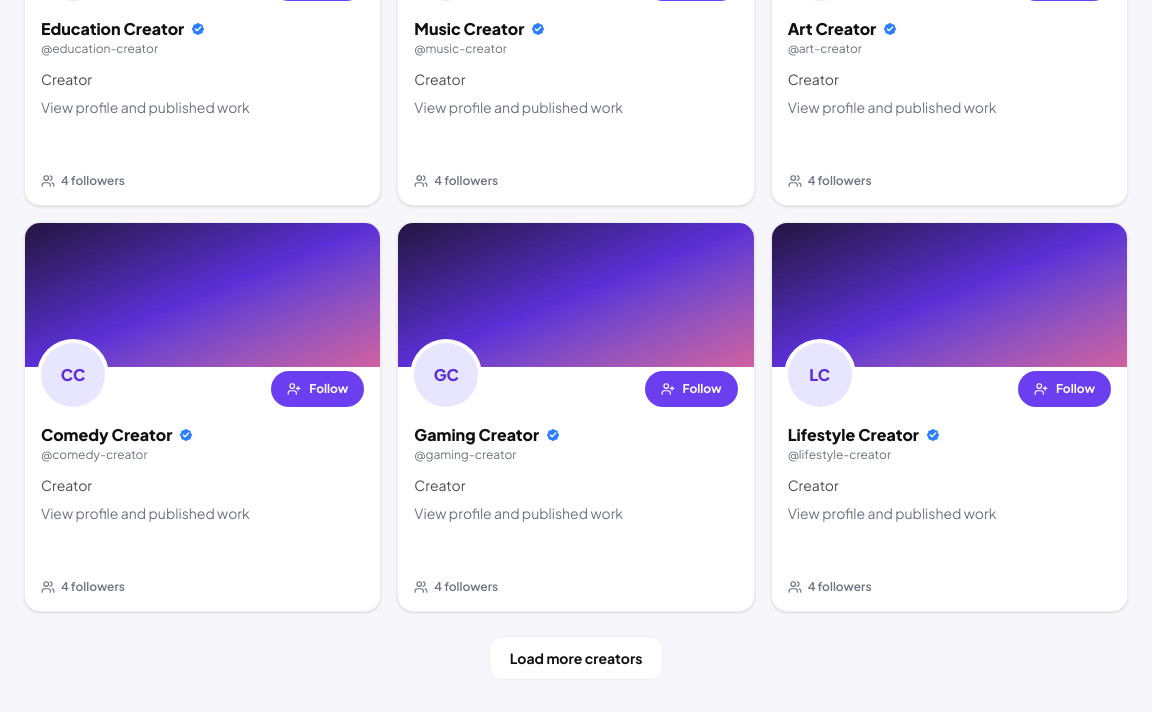
Scenario: Explore page › paginates the complete twelve-category creator directory
(page scrolled)
Expected: the text "Gaming Creator" is shown, [414, 424, 561, 445]
Step 1. Click the button "Load more creators" → (576, 658), box [489, 636, 663, 680]
(page scrolled)
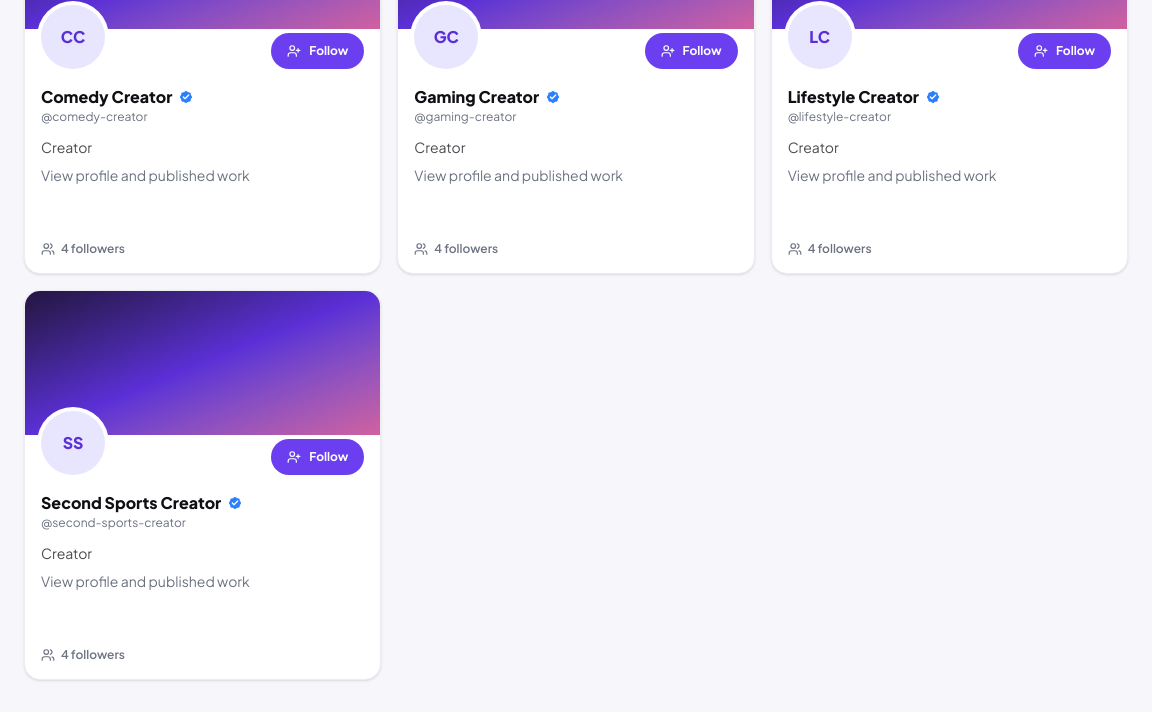
Expected: the text "Second Sports Creator" is shown, [41, 492, 243, 513]
